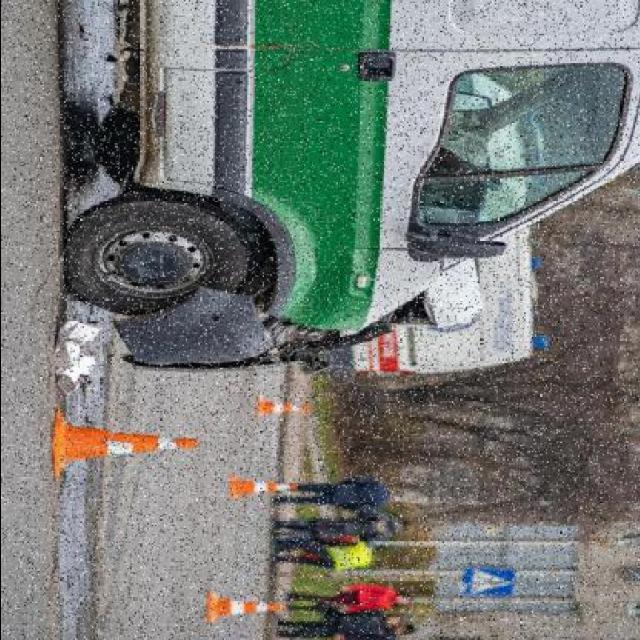front-bumper-dent: (91, 297, 382, 389)
